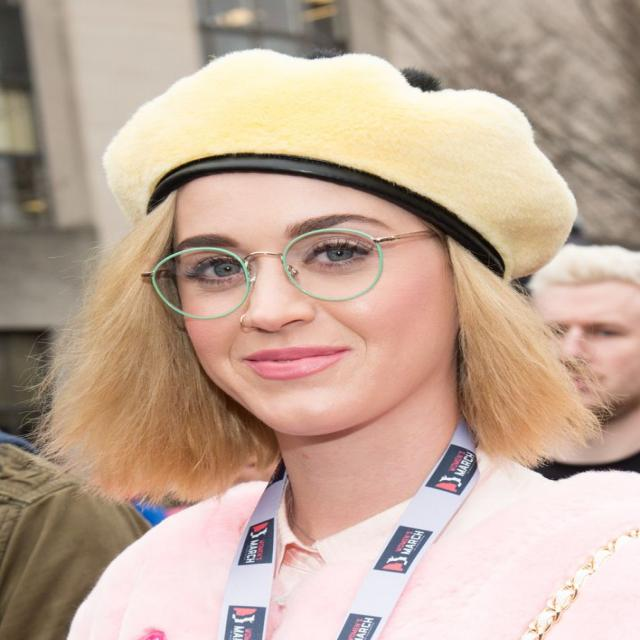Glasses: (145, 225, 423, 324)
